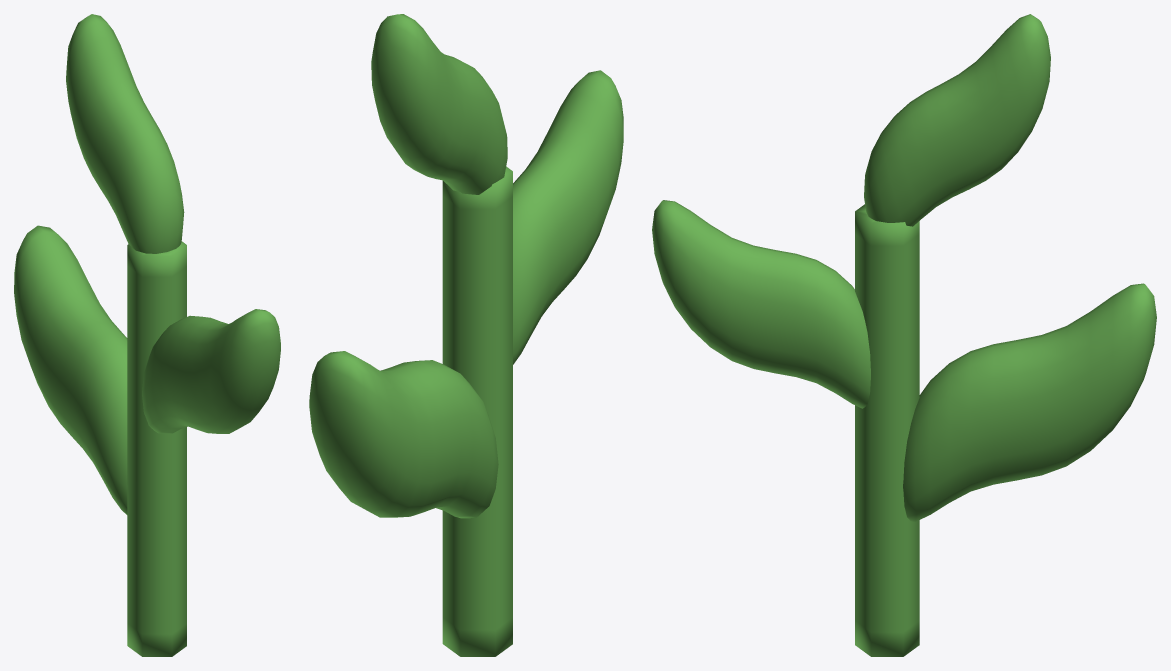
Rendered from plant.fbx.
3 views of the same model, side by side, from view 1: azimuth 30°, elevation 25°; view 2: azimuth 150°, elevation 25°; view 3: azimuth 270°, elevation 25° (orthographic). The views are drawn at different scales.
Visible parts, largest first — view 1: Cylinder.005, Cube.004, Cube.006, Cube.005; view 2: Cylinder.005, Cube.004, Cube.005, Cube.006; view 3: Cube.004, Cylinder.005, Cube.005, Cube.006.
Part boxes in pixels (x1,y1,x2,y2): Cylinder.005: [127, 241, 186, 656]; Cube.004: [14, 225, 127, 514]; Cube.006: [66, 14, 184, 253]; Cube.005: [142, 309, 280, 433]; Cylinder.005: [442, 166, 512, 656]; Cube.004: [309, 351, 498, 518]; Cube.005: [513, 70, 623, 364]; Cube.006: [371, 14, 507, 194]; Cube.004: [903, 283, 1156, 521]; Cylinder.005: [855, 204, 919, 656]; Cube.005: [652, 200, 870, 408]; Cube.006: [864, 14, 1050, 226].
Size of the model in its own units: 20.66 by 163 by 119.
